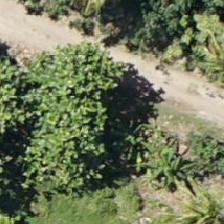coconut_tree: (161, 173, 223, 223)
